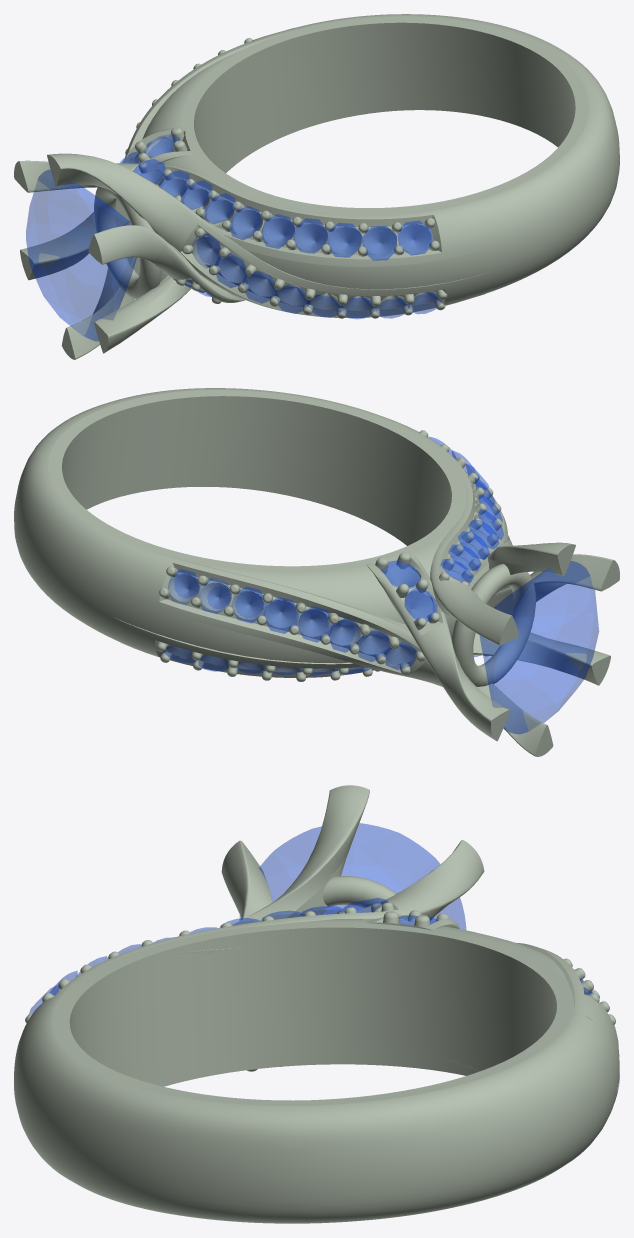
The model's file is try3.glb.
The picture shows the model from 3 angles, top to bottom: view 1: azimuth 30°, elevation 25°; view 2: azimuth 150°, elevation 25°; view 3: azimuth 270°, elevation 25°; orthographic projection. The views are drawn at different scales.
Visible parts, largest first — view 1: ring, diamonds; view 2: ring, diamonds; view 3: ring, diamonds.
Part boxes in pixels (bbox=[...]): ring: bbox=[14, 14, 619, 359]; diamonds: bbox=[26, 134, 441, 341]; ring: bbox=[14, 388, 619, 756]; diamonds: bbox=[164, 437, 598, 733]; ring: bbox=[14, 785, 619, 1223]; diamonds: bbox=[29, 823, 599, 1013].
Size of the model in its own units: 2.17 by 0.8066 by 1.68.
